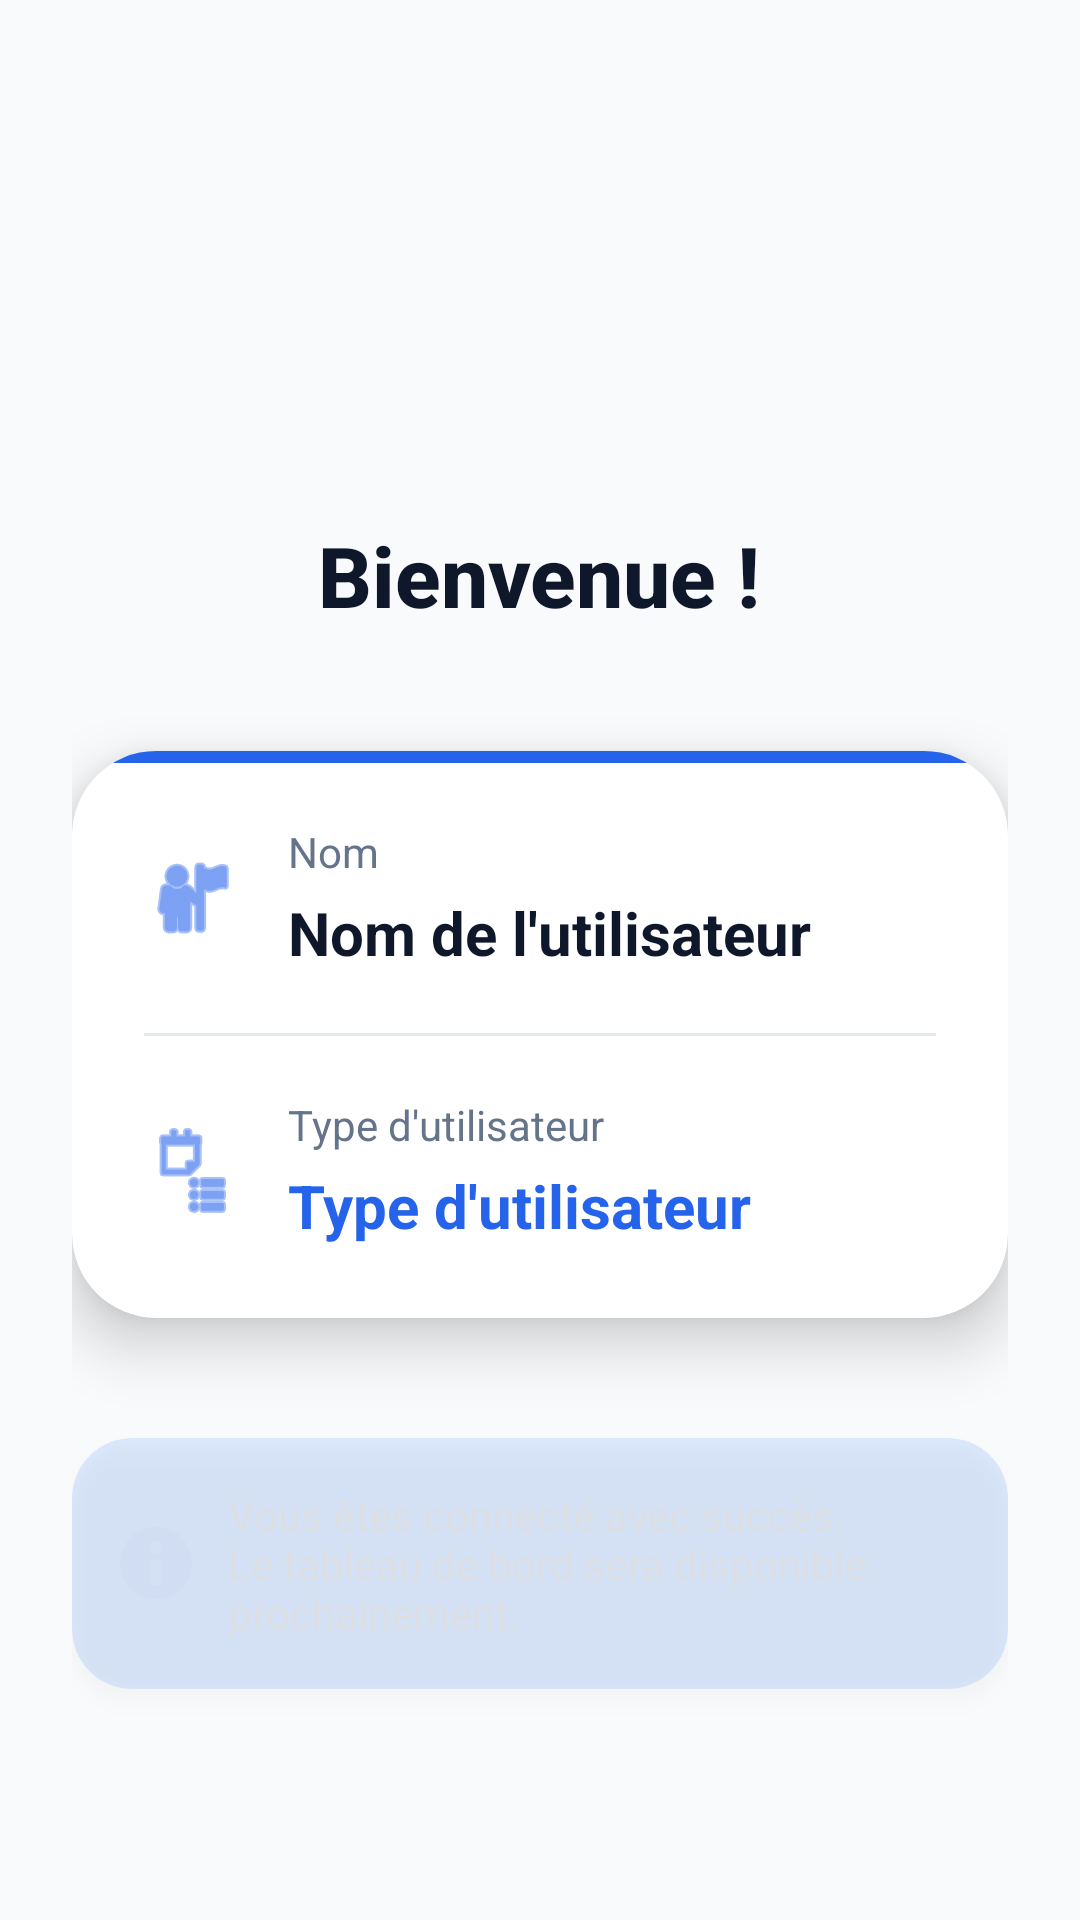

Icon bounding boxes for this 1080w x 1920h phone screenshot, format bbox=(x1, y1, x2, y2):
agenda: bbox=(159, 1128, 226, 1213)
